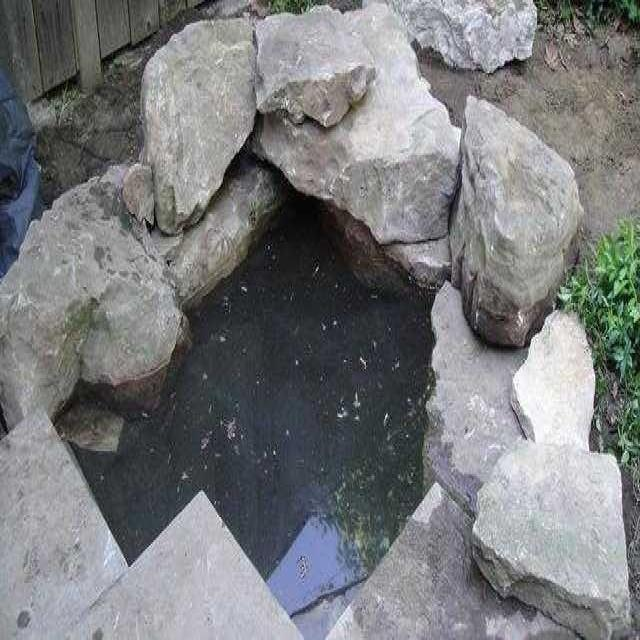Ponds: (1, 55, 503, 631)
